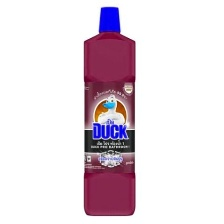cleaning_solution: (80, 4, 138, 217)
